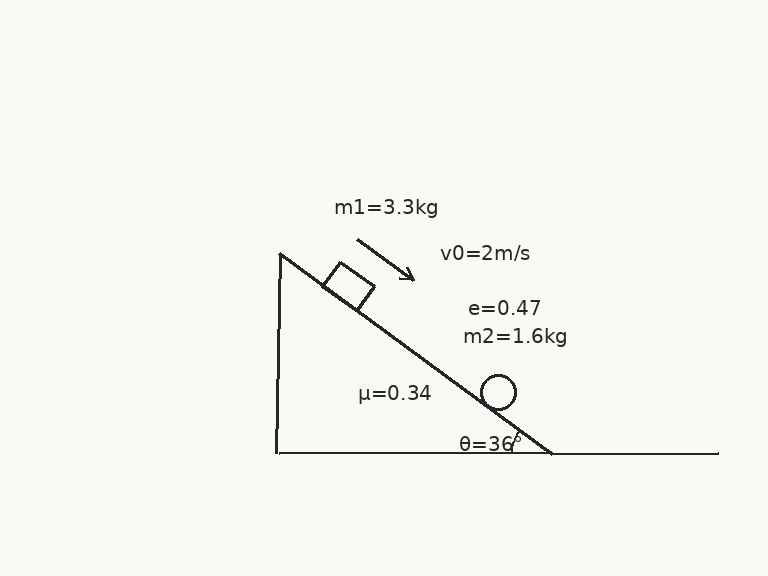ball: (478, 372, 518, 412)
block: (320, 259, 376, 313)
ramp: (277, 252, 554, 455)
